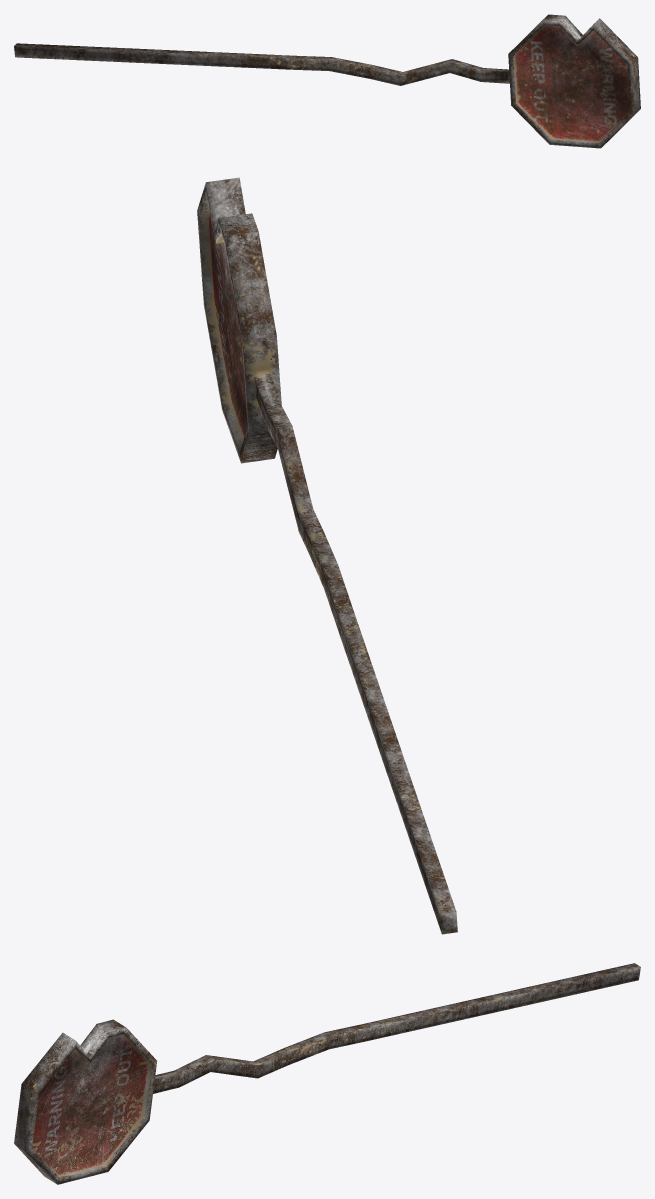
The model's file is Anim_idle_senyal_objetos.0054.obj.
3 renders of one model, top to bottom at view 1: azimuth 30°, elevation 25°; view 2: azimuth 150°, elevation 25°; view 3: azimuth 270°, elevation 25°, orthographic. The views are drawn at different scales.
Size of the model in its own units: 8.21 by 2.59 by 9.75.
